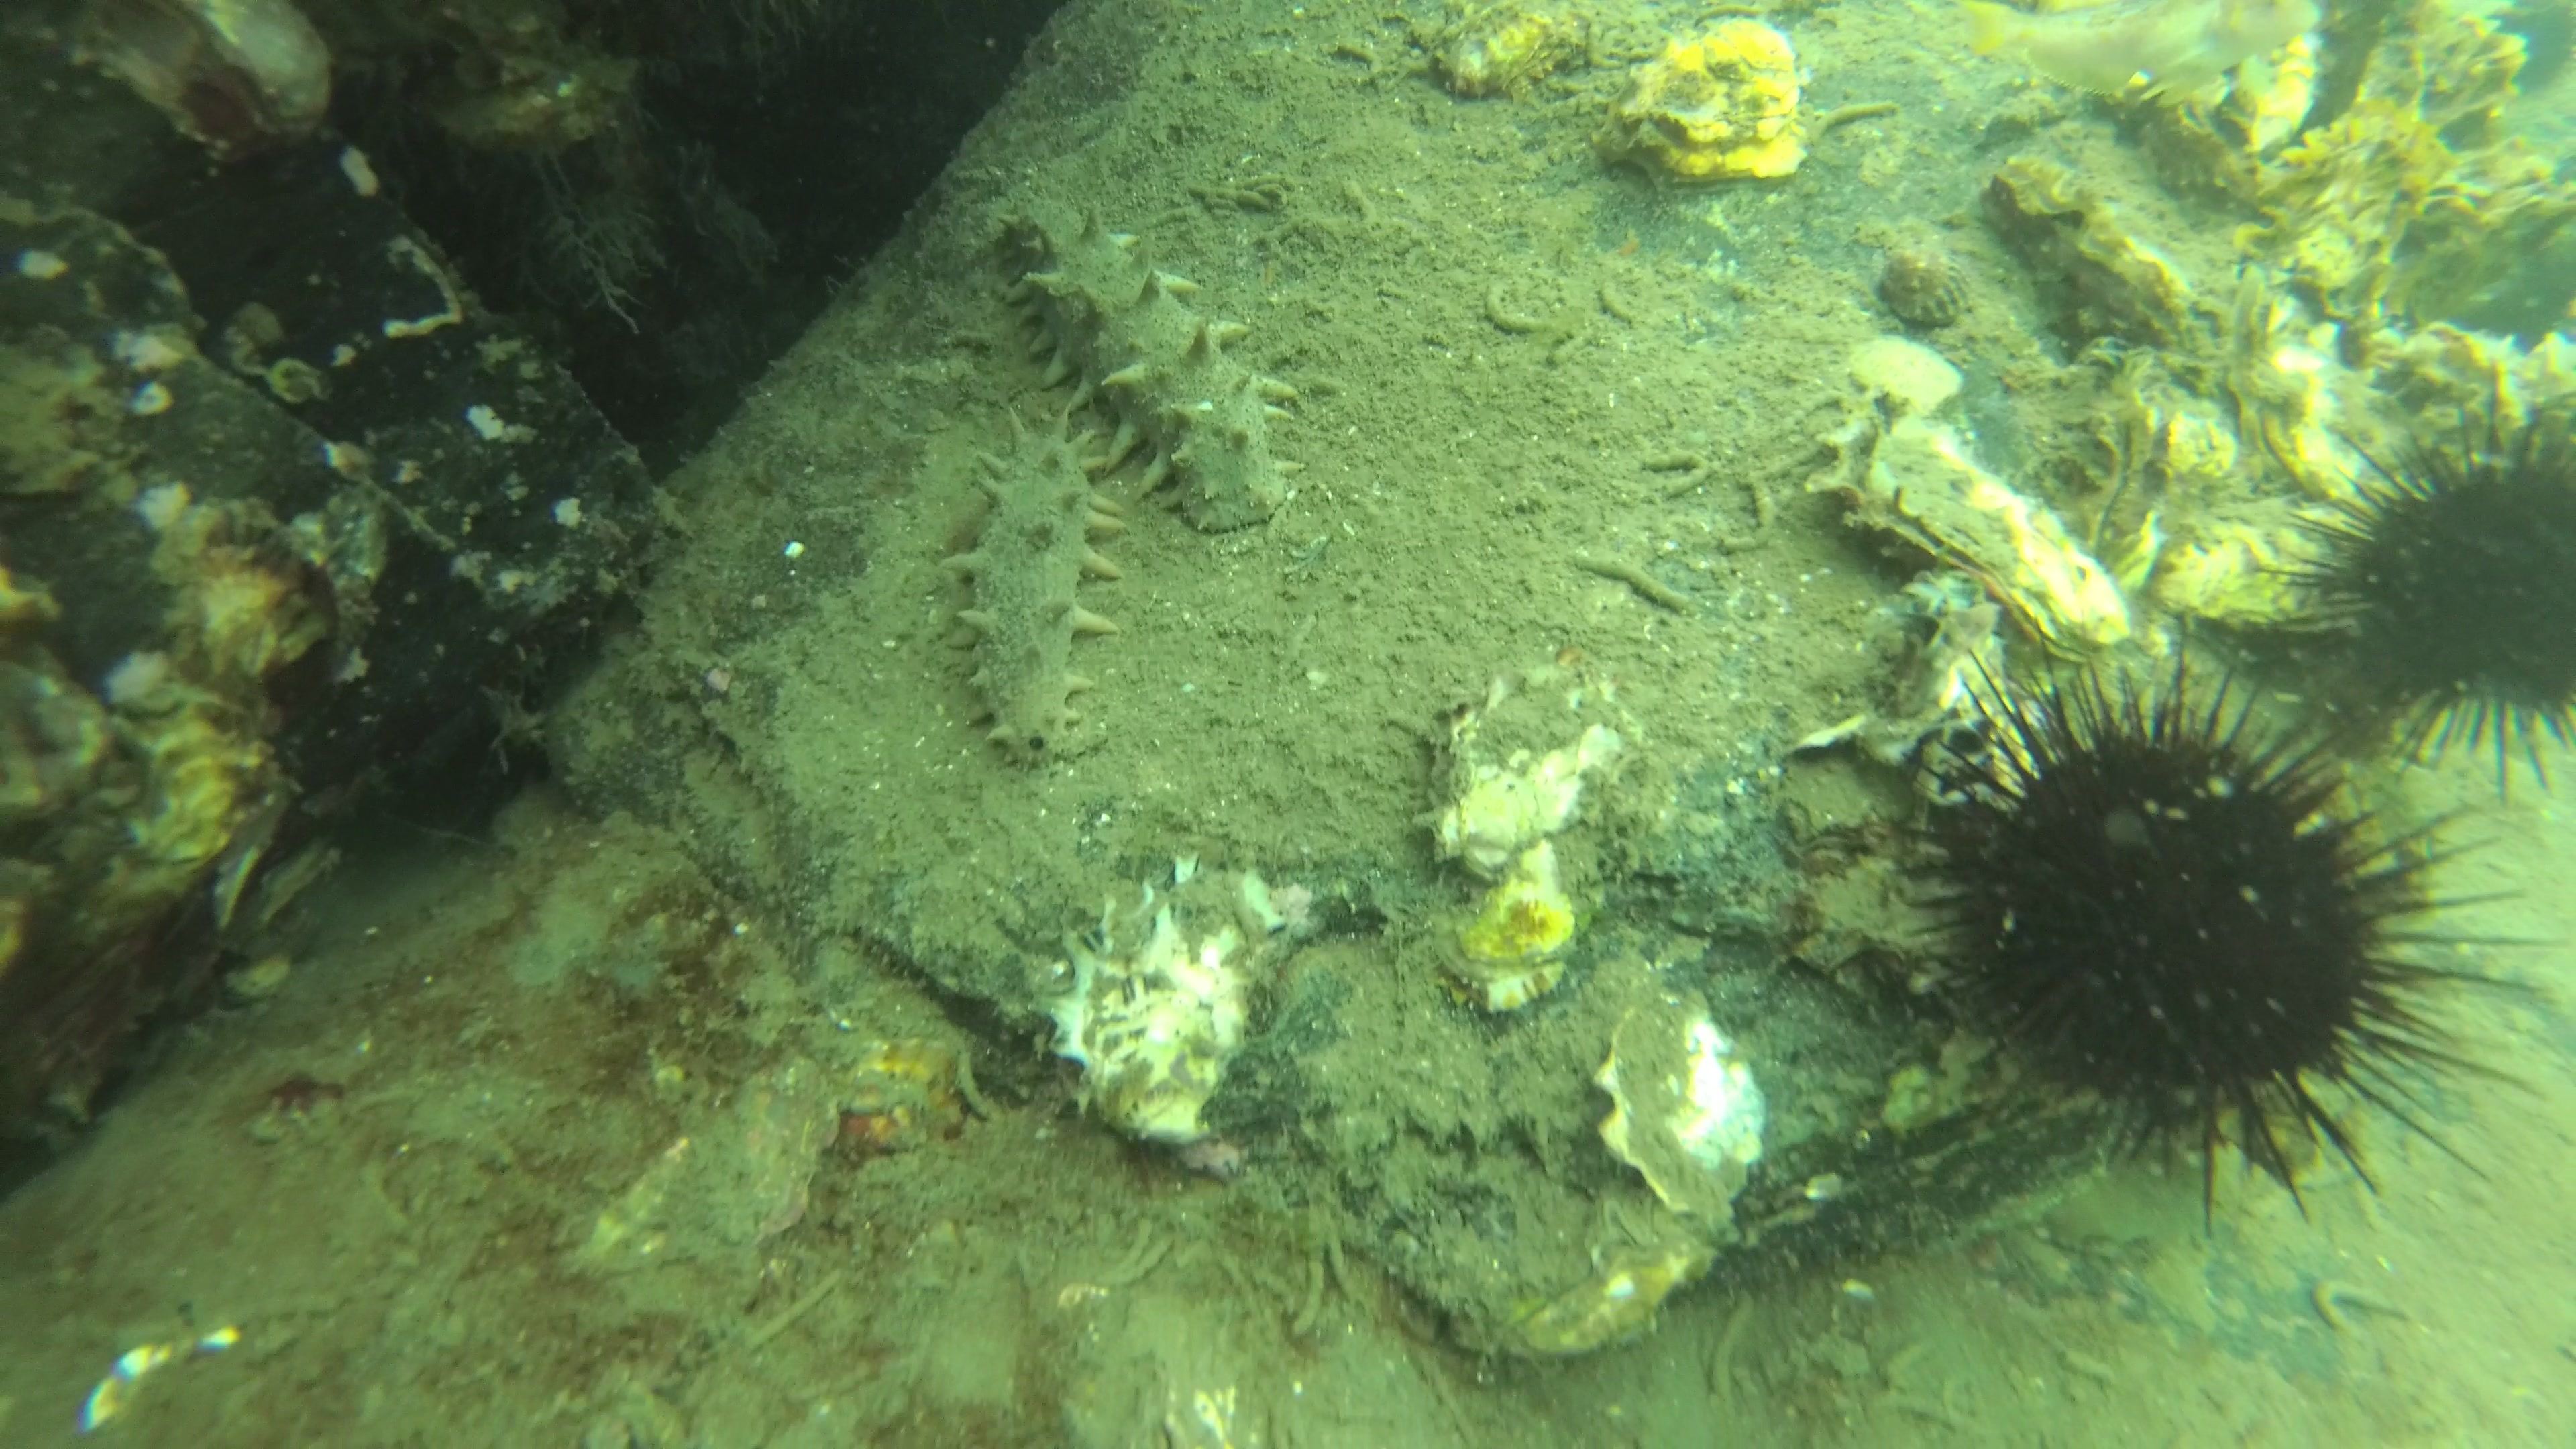echinus: (1898, 640, 2564, 1226), (2252, 380, 2576, 816)
holothurian: (994, 189, 1306, 538), (941, 393, 1113, 775)
